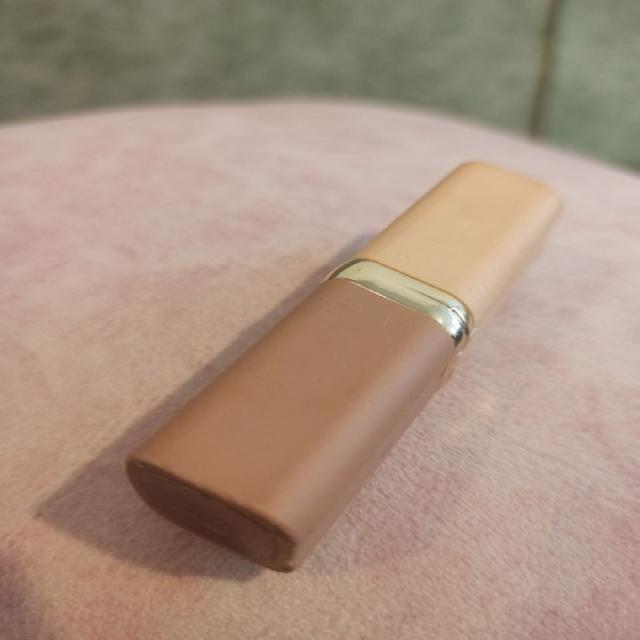lipstick: (124, 159, 562, 573)
